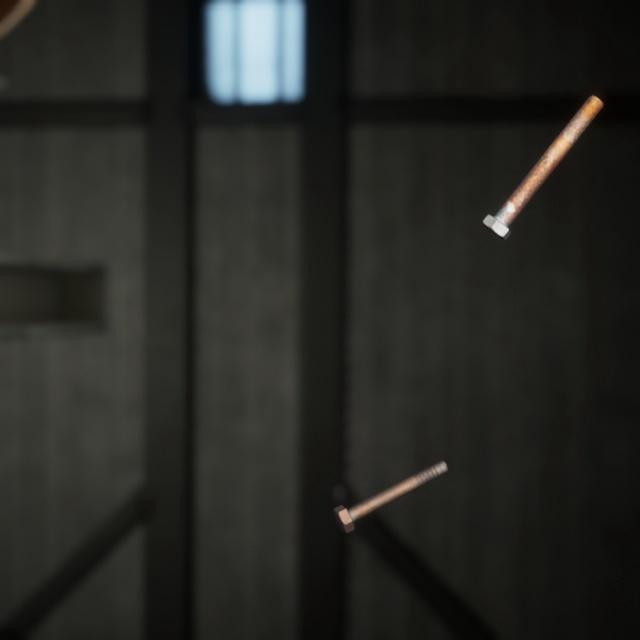bolt: (478, 77, 608, 230), (329, 435, 452, 516)
